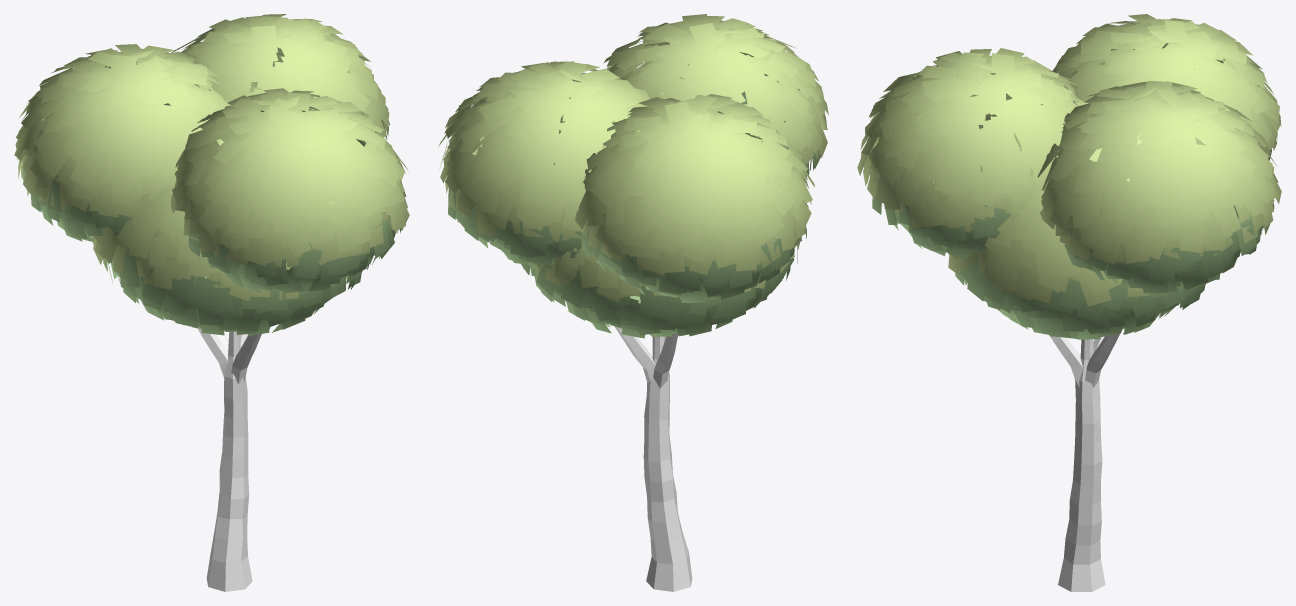
Rendered from tree_round.glb.
3 renders of one model, left to right at view 1: azimuth 30°, elevation 25°; view 2: azimuth 150°, elevation 25°; view 3: azimuth 270°, elevation 25°, orthographic. The views are drawn at different scales.
Visible parts, largest first — view 1: foliage.001, trunk.001; view 2: foliage.001, trunk.001; view 3: foliage.001, trunk.001.
Part boxes in pixels (x1,y1,x2,y2): foliage.001: (14, 14, 409, 335); trunk.001: (198, 328, 261, 591); foliage.001: (438, 14, 828, 338); trunk.001: (614, 326, 692, 591); foliage.001: (857, 14, 1281, 339); trunk.001: (1050, 333, 1119, 591).
Bounding box in the file's own units: 4.33 × 6.19 × 4.52.
